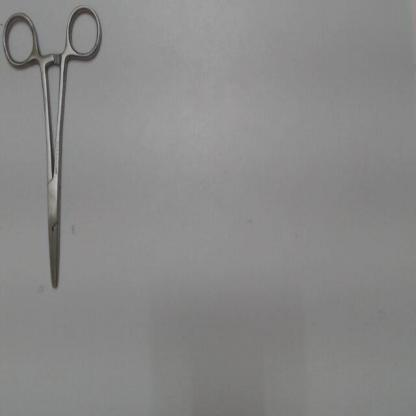Mayo Needle Holder: (0, 2, 107, 299)
